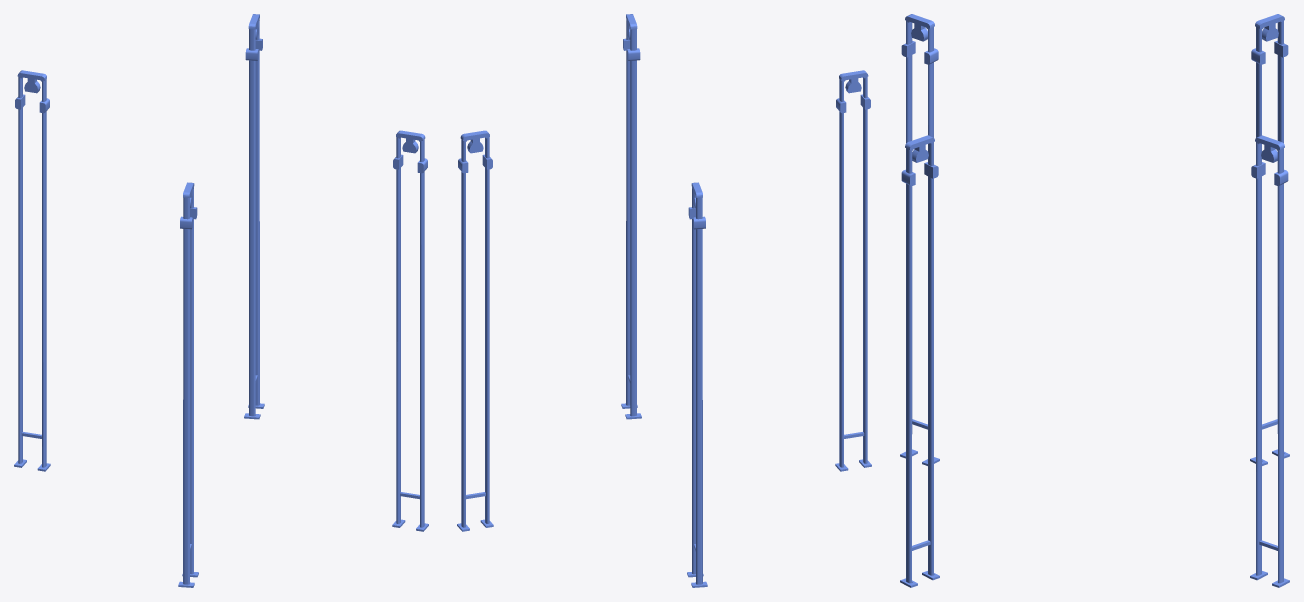
The model's file is Small_Post_4.fbx.
3 views of the same model, side by side, from view 1: azimuth 30°, elevation 25°; view 2: azimuth 150°, elevation 25°; view 3: azimuth 270°, elevation 25° (orthographic). The views are drawn at different scales.
Parts seen in each view (by area): view 1: 円.002; view 2: 円.002; view 3: 円.002.
Part boxes in pixels (box(x1,y1,x2,y2)): 円.002: box(14, 14, 428, 587); 円.002: box(457, 14, 871, 587); 円.002: box(900, 14, 1289, 587).
Size of the model in its own units: 270 by 405 by 325.
